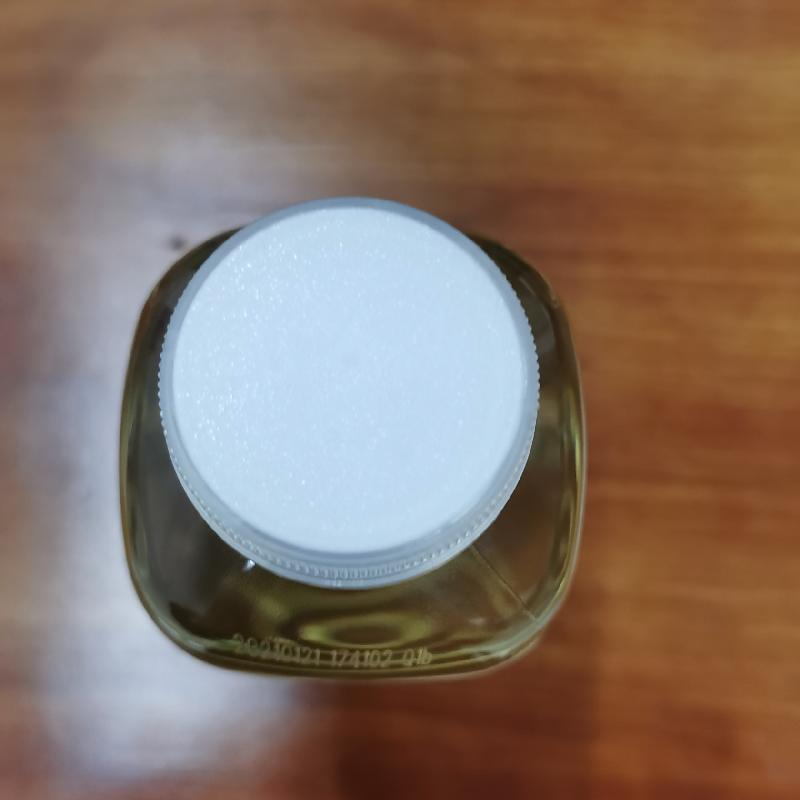bottles: (96, 188, 639, 681)
